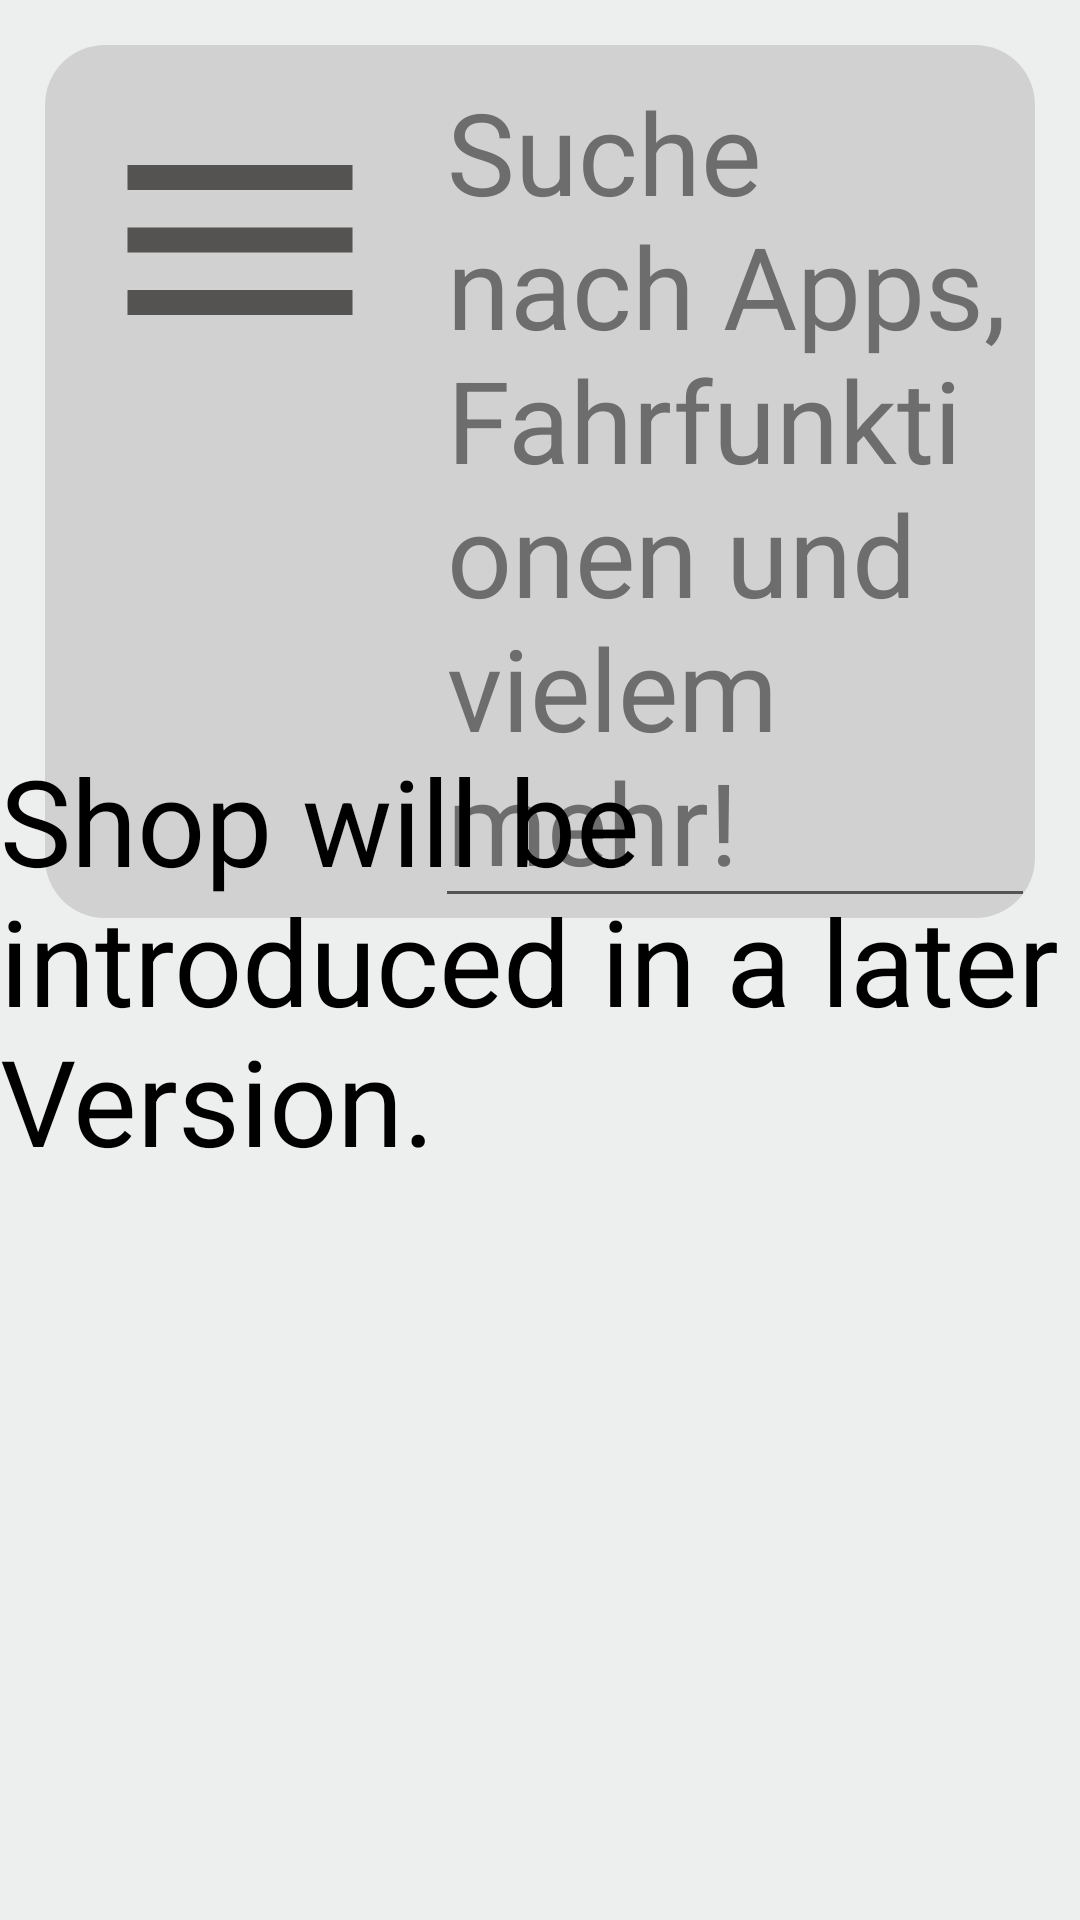

Named icons in this screenshot (1080x1920) and their bounding boxes, (x1, y1, x2, y2):
menu: (127, 165, 353, 315)
